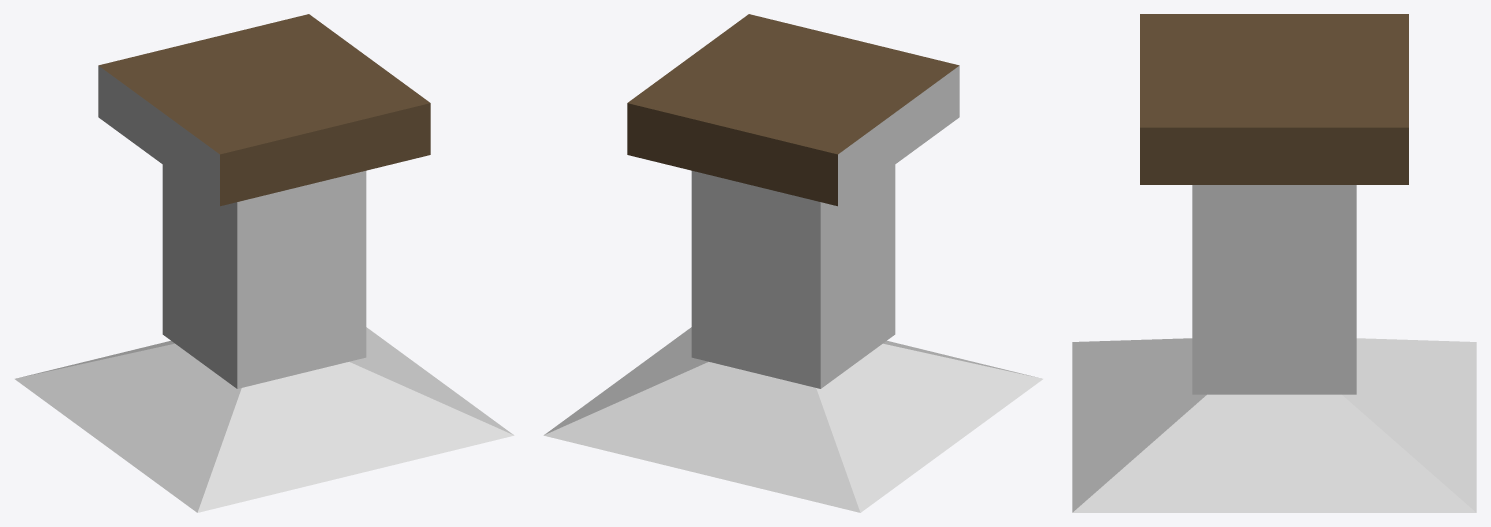
File: table.glb
3 renders of one model, left to right at view 1: azimuth 30°, elevation 25°; view 2: azimuth 150°, elevation 25°; view 3: azimuth 270°, elevation 25°, orthographic. The views are drawn at different scales.
Parts seen in each view (by area): view 1: Cube; view 2: Cube; view 3: Cube.
Part boxes in pixels (x1,y1,x2,y2): Cube: (15,14,514,512); Cube: (543,14,1042,512); Cube: (1072,14,1476,512).
Bounding box in the file's own units: 6.07 × 5.91 × 6.07.
